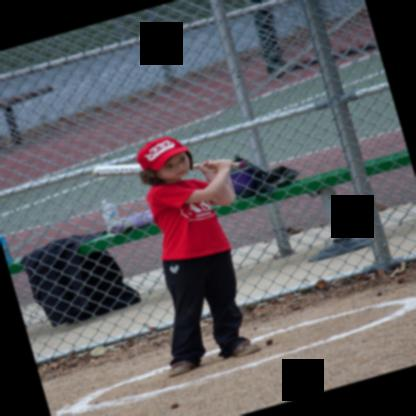backpack: (230, 155, 274, 202)
